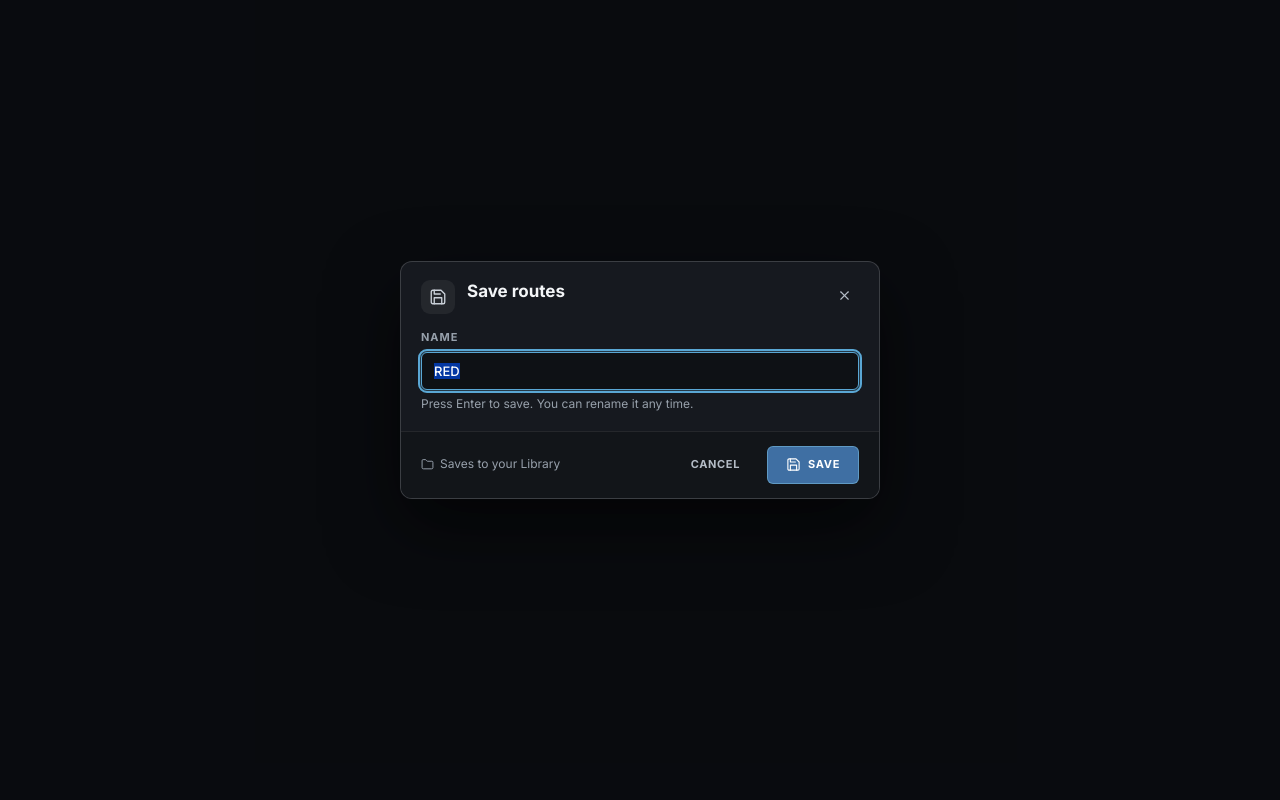
Scenario: SaveDialog › says when it could not save and lets the person try again
This screenshot has width=1280, height=800.
Click the button "Save" at (813, 465), box [767, 446, 859, 484]
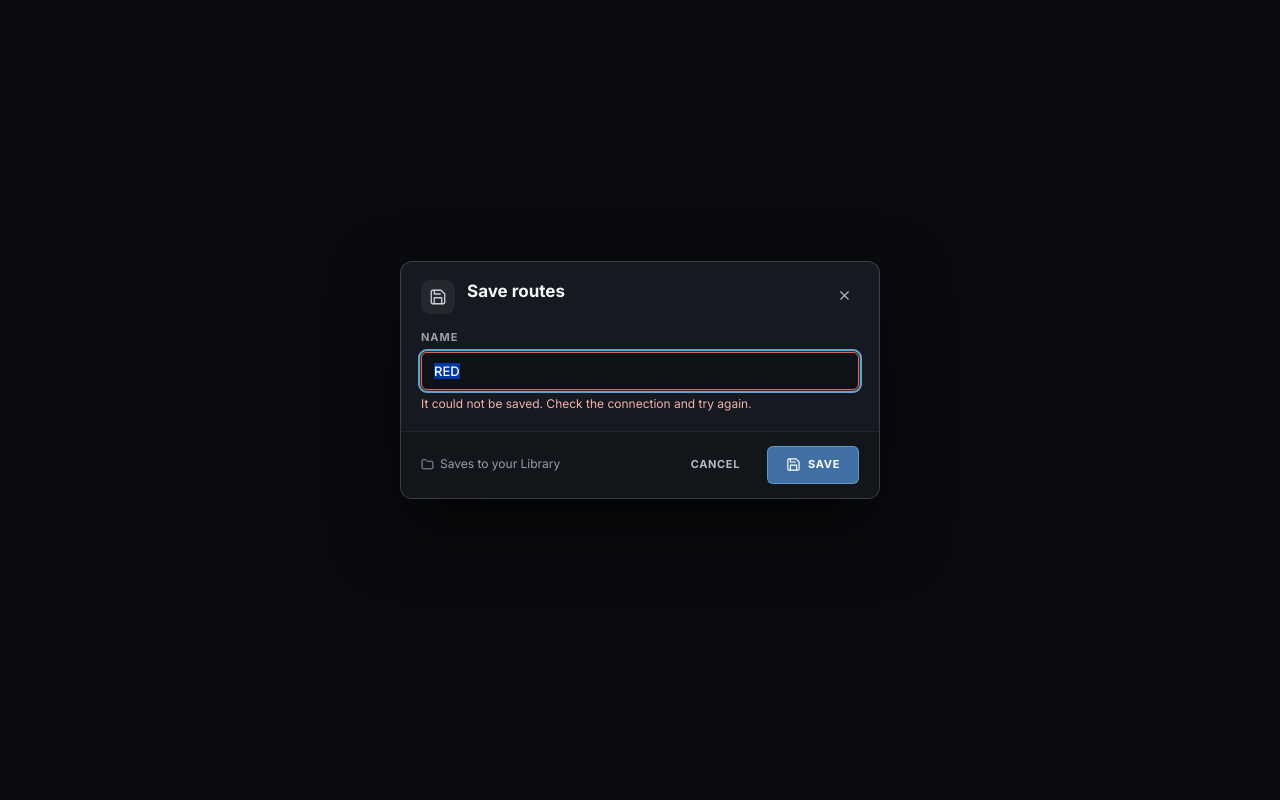
Check: the text "It could not be saved. Check the connection and try again." is shown, box [421, 396, 752, 411]
